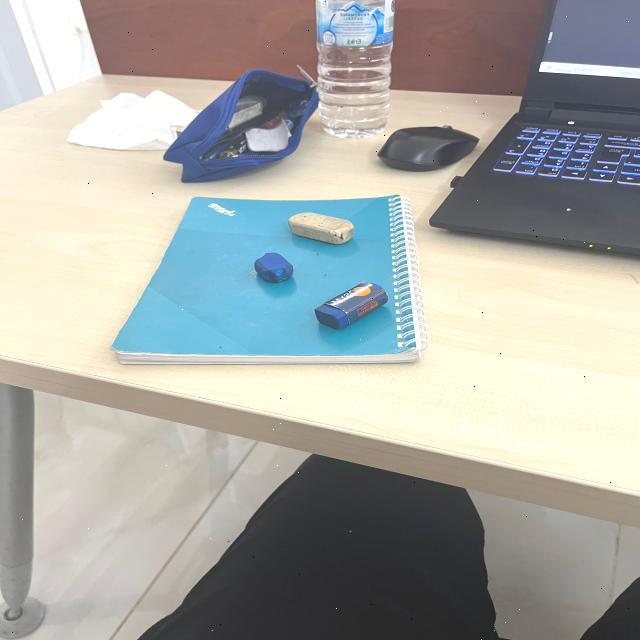eraser: (306, 275, 394, 336), (283, 204, 362, 245), (242, 249, 298, 286)
